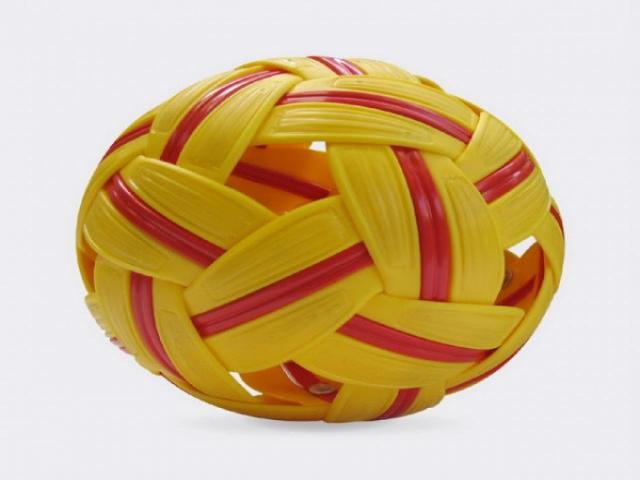round ball: (78, 56, 564, 421)
